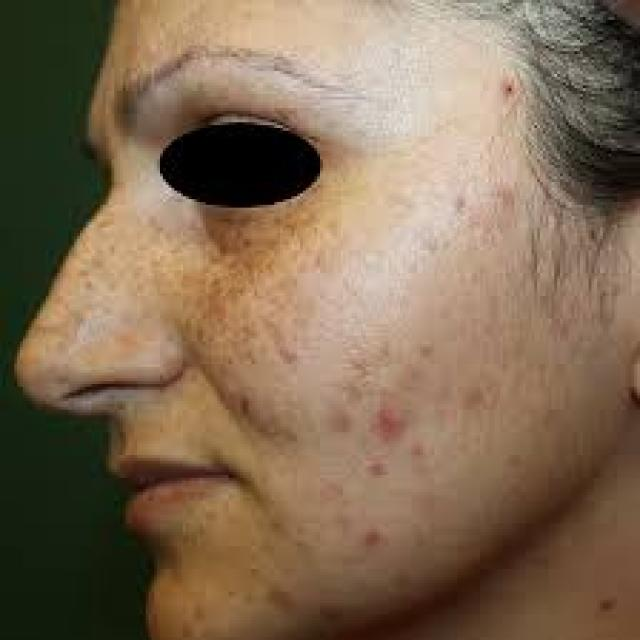Acne: (372, 401, 408, 446), (358, 524, 388, 550)
